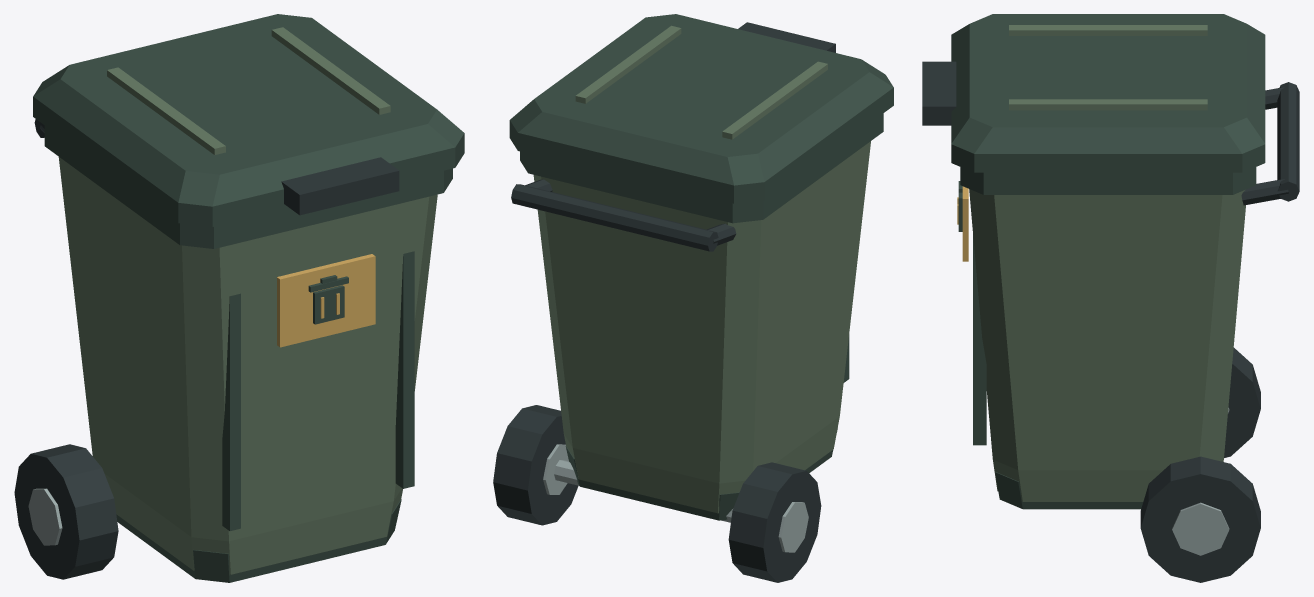
The model's file is trash_bin.glb.
3 renders of one model, left to right at view 1: azimuth 30°, elevation 25°; view 2: azimuth 150°, elevation 25°; view 3: azimuth 270°, elevation 25°, orthographic. The views are drawn at different scales.
Visible parts, largest first — view 1: Body, Lid, Wheel_Left; view 2: Body, Lid, Wheel_Left, Wheel_Right; view 3: Body, Lid, Wheel_Right, Wheel_Left.
Boxes of the visible parts, x1,y1,x2,y2 form: Body: [34, 119, 452, 582]; Lid: [33, 14, 464, 226]; Wheel_Left: [14, 444, 118, 579]; Body: [511, 113, 883, 522]; Lid: [509, 14, 893, 203]; Wheel_Left: [728, 462, 821, 582]; Wheel_Right: [493, 405, 578, 525]; Body: [957, 82, 1299, 509]; Lid: [922, 14, 1265, 172]; Wheel_Right: [1140, 456, 1260, 582]; Wheel_Left: [1224, 347, 1260, 457].
Size of the model in its own units: 0.714 by 1.07 by 0.8165.
